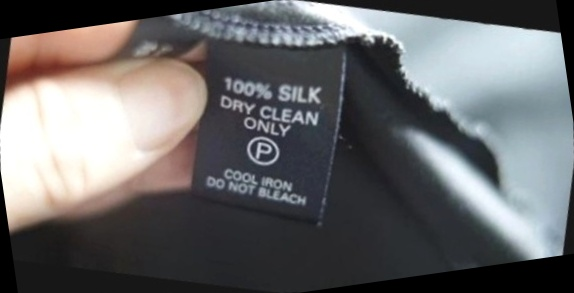dry_clean_any_solvent_except_trichloroethylene: (241, 128, 288, 172)
